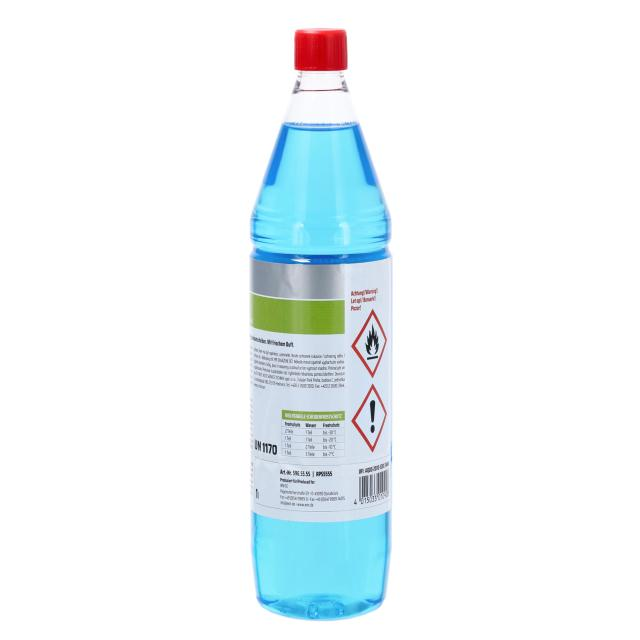winwinshield_washer: (244, 15, 401, 626)
